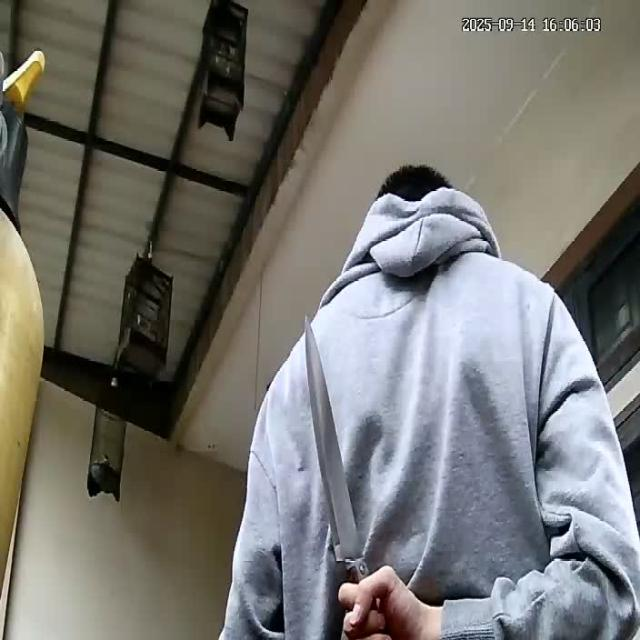senjata_tajam: (302, 313, 371, 584)
